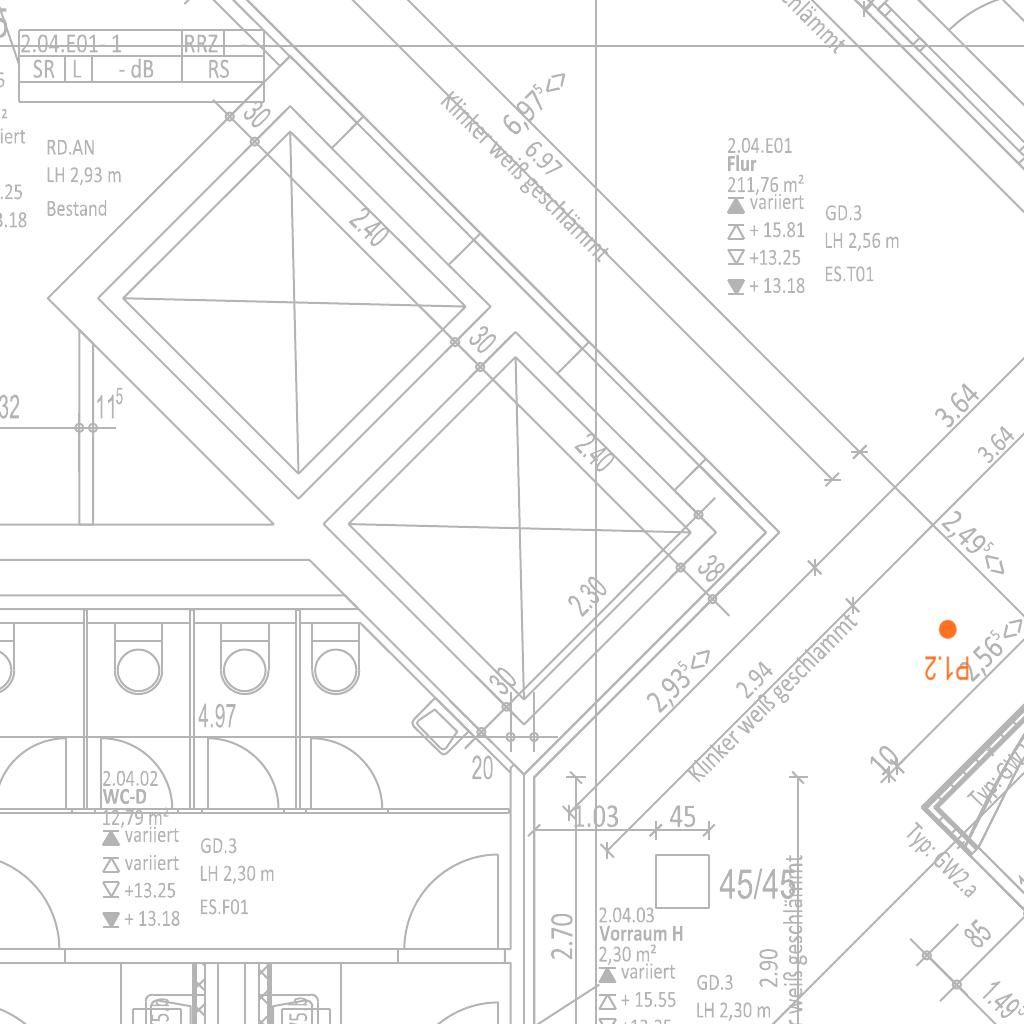Downlight_LED_Einbauleuchten_Flur: (924, 618, 970, 682)
